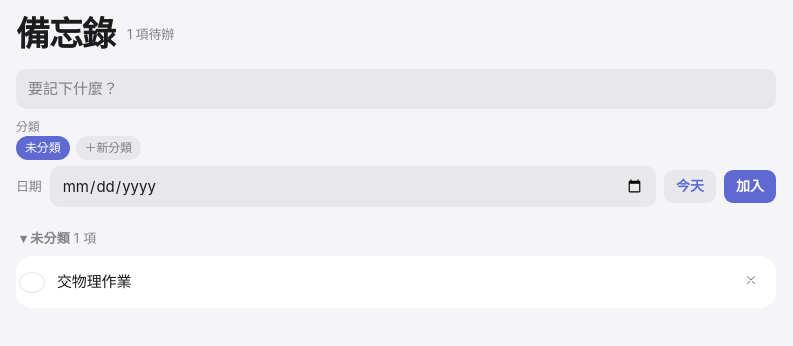
Scenario: 備忘錄刪除失敗復原 › DELETE 後連重讀也失敗時鎖住該筆，重試只重新載入
Click the button named "刪除「交物理作業」" at x=751, y=282, box [742,269,760,295]
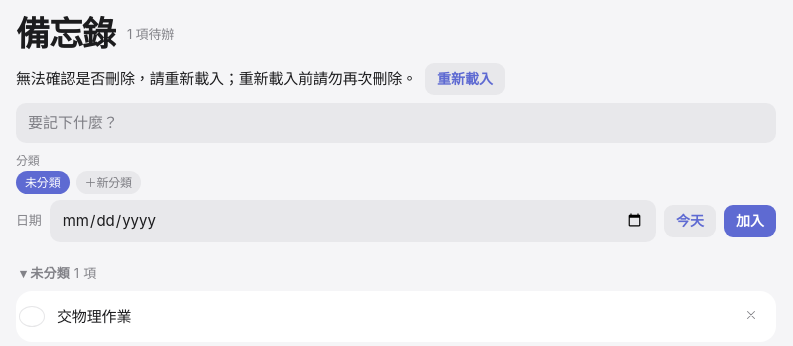
Expected: the message shows "無法確認是否刪除", [16,69,417,88]
Expected: the button named "刪除「交物理作業」" is disabled, [742,304,760,329]
Click the button "重新載入" at x=465, y=79, box [425,63,505,95]
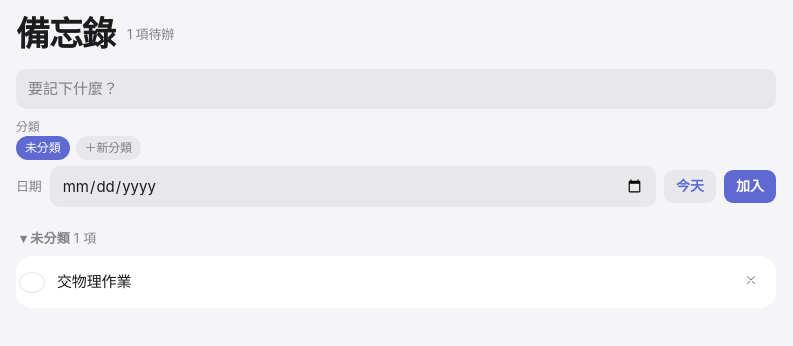
Expected: the message "無法確認是否刪除，請重新載入；重新載入前請勿再次刪除。 重新載入" is gone
Expected: the button named "刪除「交物理作業」" is enabled, [742,269,760,295]
